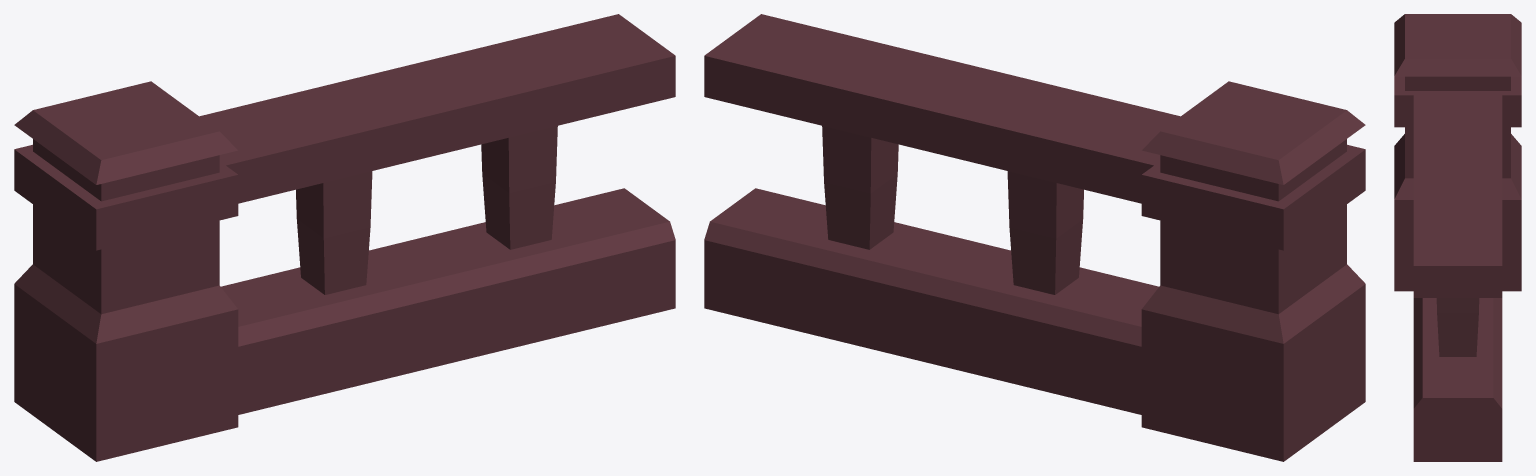
The model's file is empire-railing-empire.glb.
The picture shows the model from 3 angles, left to right: view 1: azimuth 30°, elevation 25°; view 2: azimuth 150°, elevation 25°; view 3: azimuth 270°, elevation 25°; orthographic projection. The views are drawn at different scales.
Parts seen in each view (by area): view 1: SM_Railing_Empire; view 2: SM_Railing_Empire; view 3: SM_Railing_Empire.
Boxes of the visible parts, x1,y1,x2,y2 form: SM_Railing_Empire: (14, 14, 675, 461); SM_Railing_Empire: (704, 14, 1365, 461); SM_Railing_Empire: (1394, 14, 1521, 461).
Bounding box in the file's own units: 3 × 1.42 × 0.7206.
